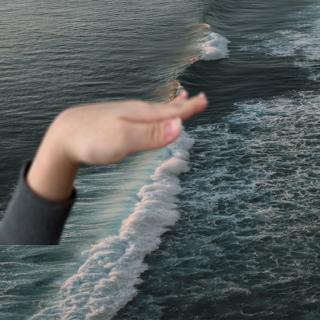Wait: (32, 81, 213, 176)
